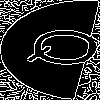Q: (25, 25, 100, 71)
